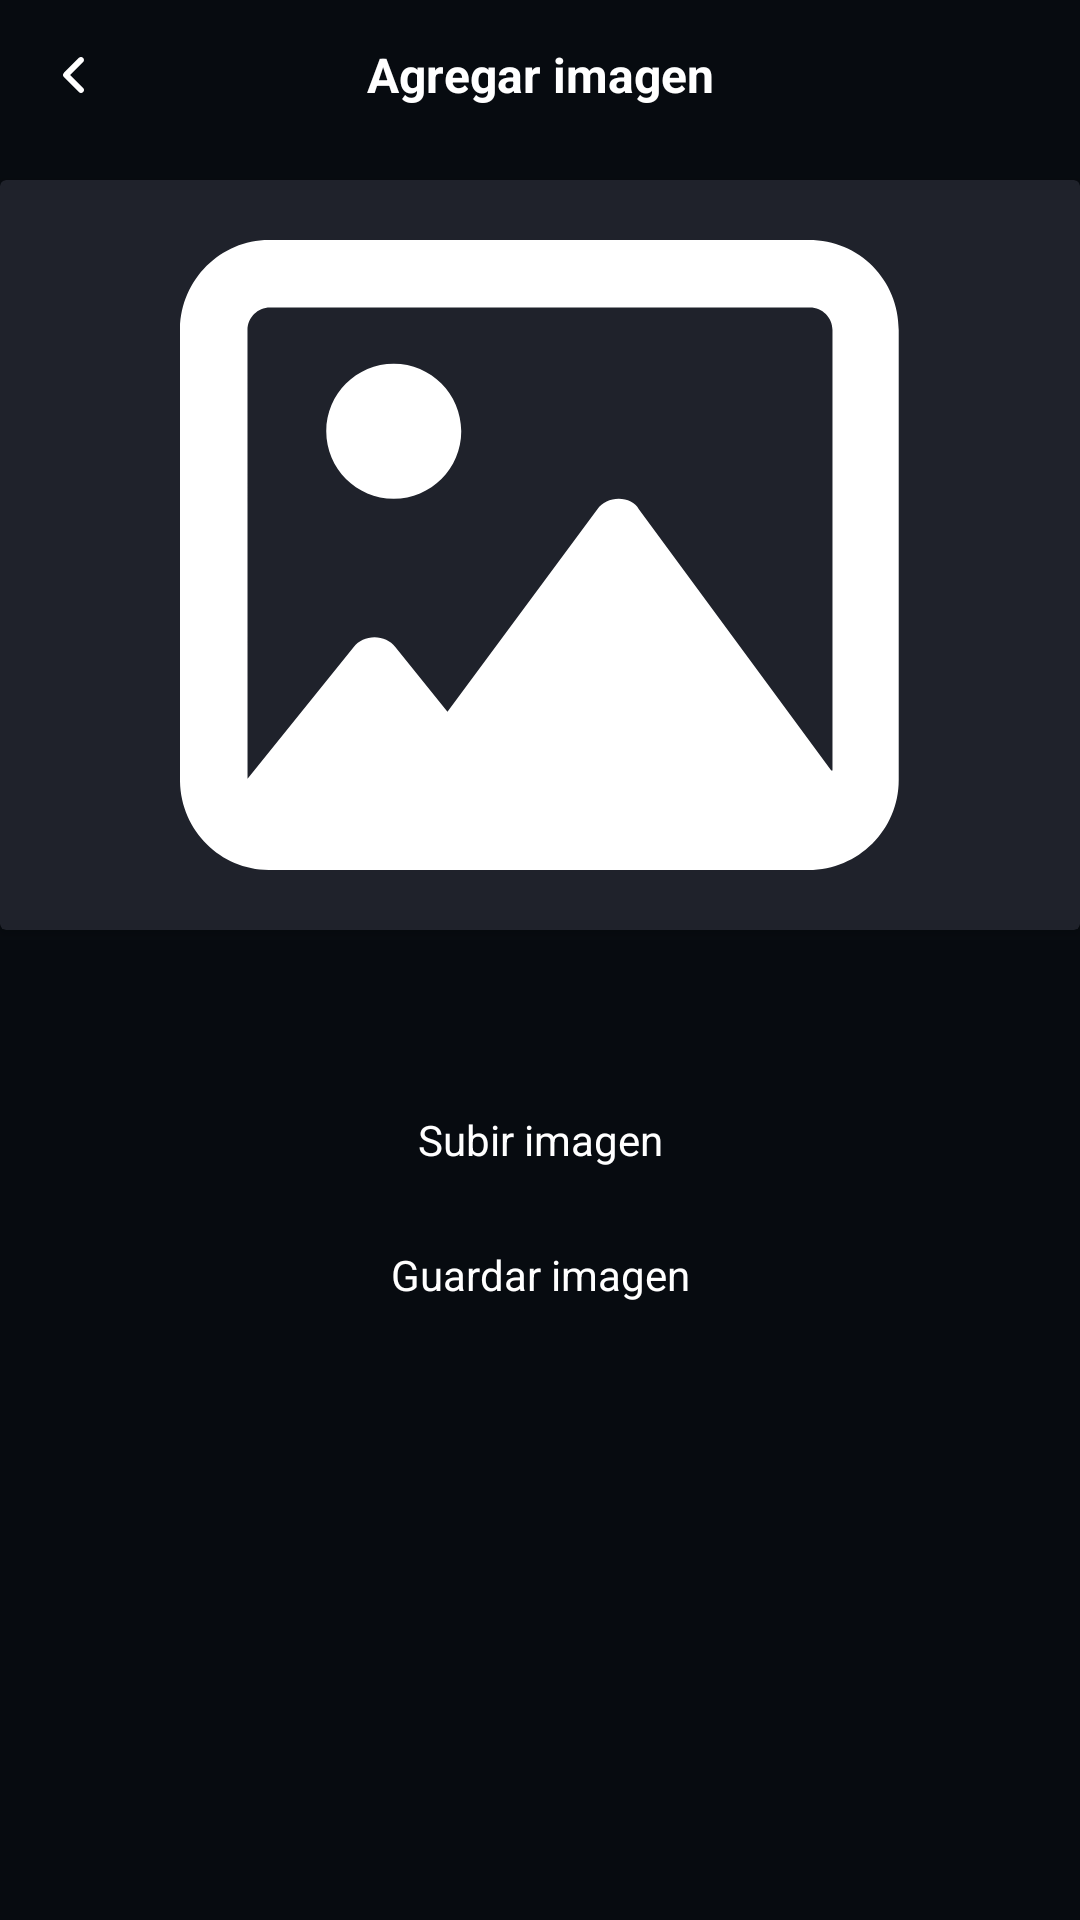

Icon bounding boxes for this 1080*1920 phone screenshot, format [x1, y1, x2, y2]:
angle left: [63, 57, 84, 93]
